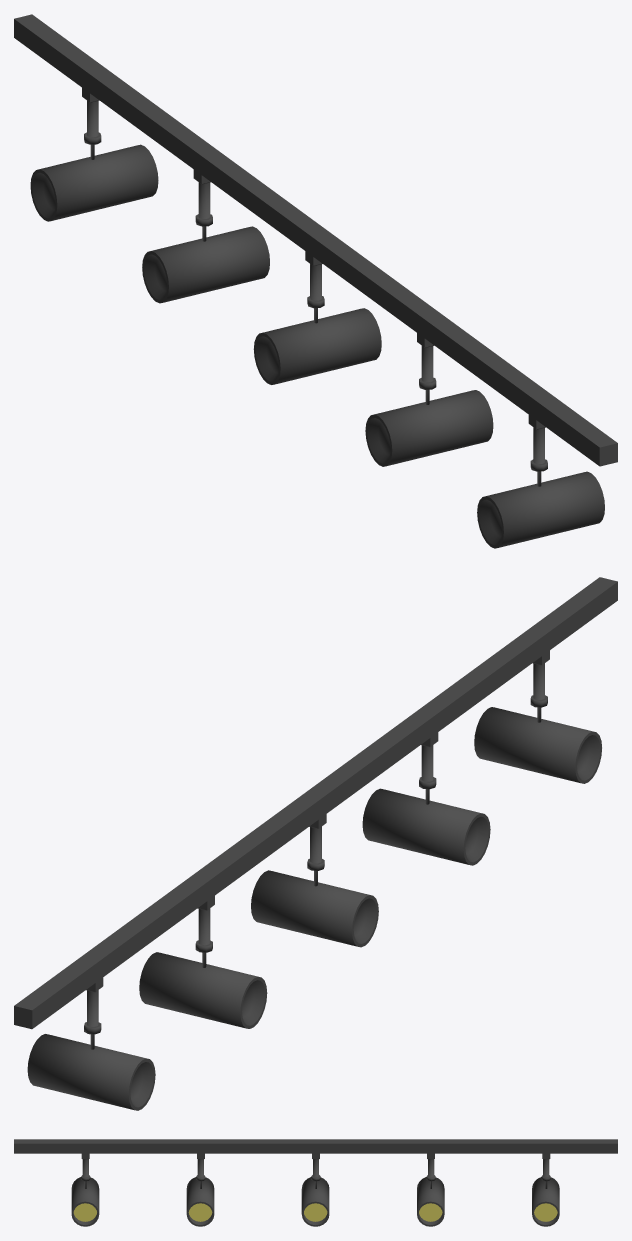
The model's file is linelights.fbx.
3 renders of one model, top to bottom at view 1: azimuth 30°, elevation 25°; view 2: azimuth 150°, elevation 25°; view 3: azimuth 270°, elevation 25°, orthographic. The views are drawn at different scales.
Visible parts, largest first — view 1: rail, lamp.004, lamp, lamp.002, lamp.001, lamp.003; view 2: rail, lamp.001, lamp.002, lamp.004, lamp.003, lamp; view 3: rail, lamp.004, lamp, lamp.003, lamp.002, lamp.001.
Part boxes in pixels (<box>): rail: <box>14,14,617,486</box>; lamp.004: <box>477,471,604,548</box>; lamp: <box>253,308,381,384</box>; lamp.002: <box>30,144,158,221</box>; lamp.001: <box>142,226,269,303</box>; lamp.003: <box>365,390,493,466</box>; rail: <box>14,577,617,1049</box>; lamp.001: <box>139,952,267,1028</box>; lamp.002: <box>27,1034,155,1110</box>; lamp.004: <box>474,707,601,783</box>; lamp.003: <box>362,788,490,865</box>; lamp: <box>251,870,378,947</box>; rail: <box>14,1139,617,1188</box>; lamp.004: <box>71,1177,99,1226</box>; lamp: <box>301,1177,329,1226</box>; lamp.003: <box>186,1177,214,1226</box>; lamp.002: <box>532,1177,559,1226</box>; lamp.001: <box>417,1177,444,1226</box>.
Bounding box in the file's own units: 52.3 × 69.26 × 525.
